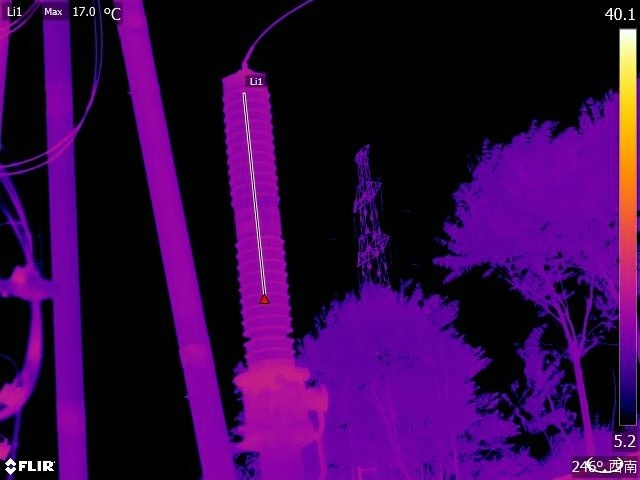potential transformer: (213, 51, 330, 442)
